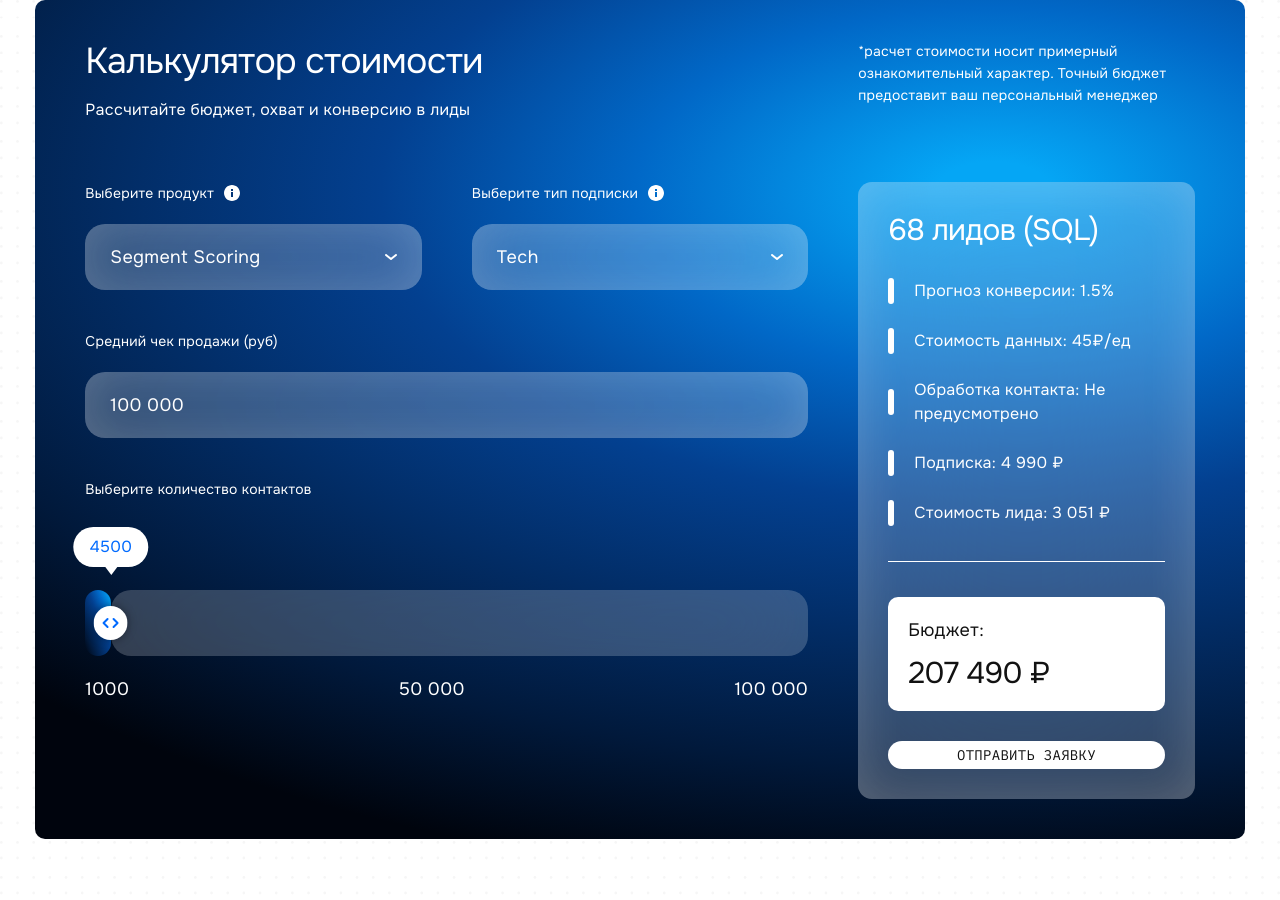
Test: Calculator Component Tests › average check input filters non-numeric characters
Replace the text in the field with "abc123def" at point(447, 405), box top-left (110, 392), bottom-right (783, 418)
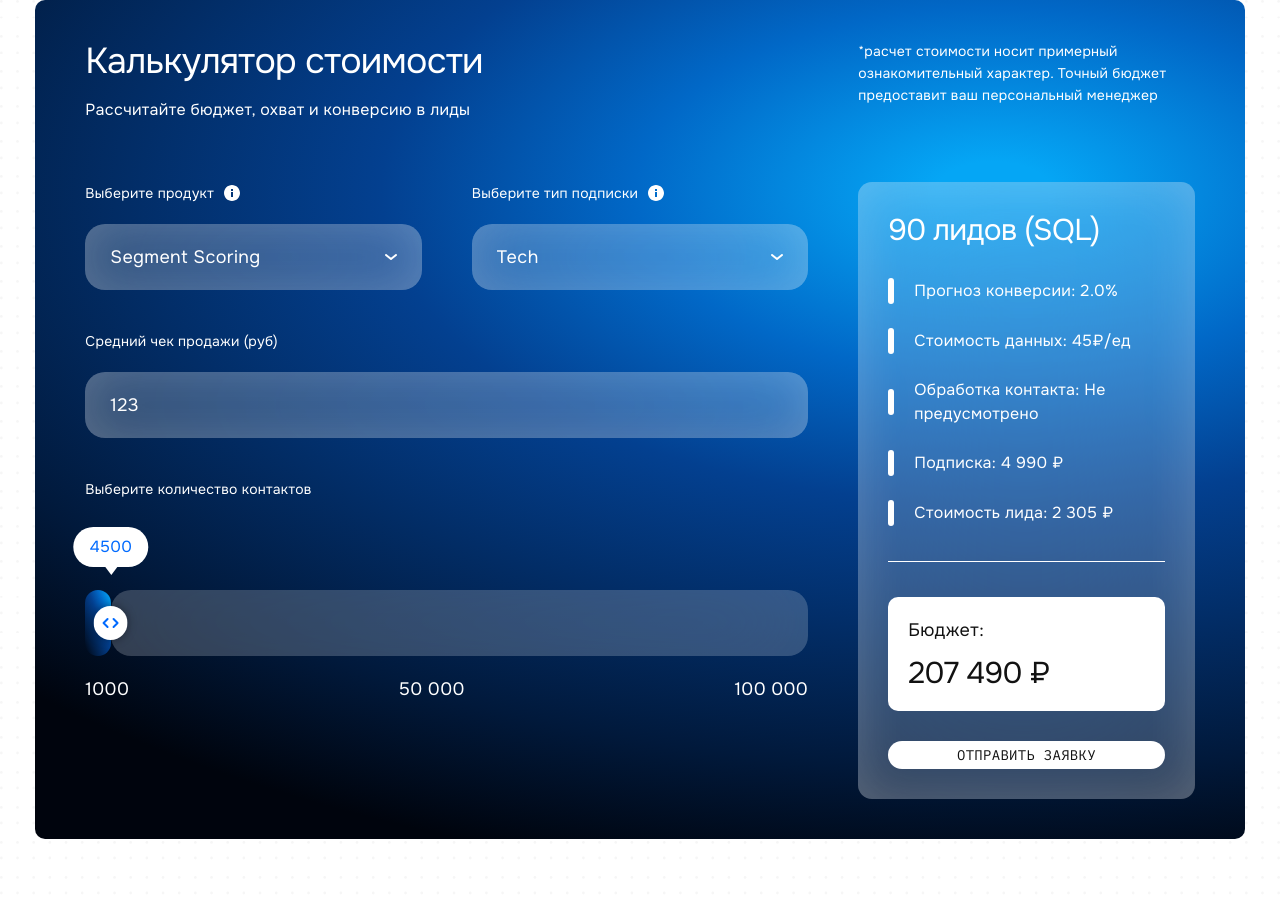
Check: the field holds "123", box top-left (110, 392), bottom-right (783, 418)
